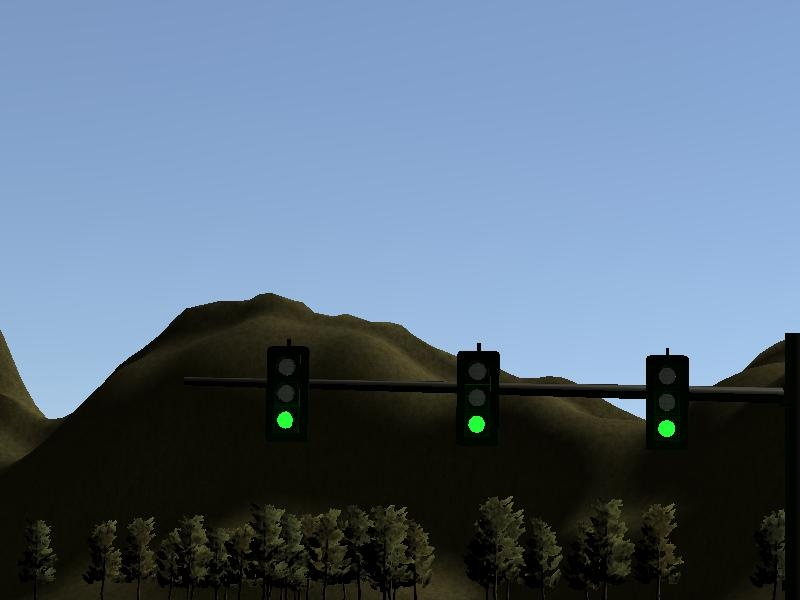GREEN: (641, 351, 696, 467), (453, 347, 504, 455), (263, 343, 308, 442)
